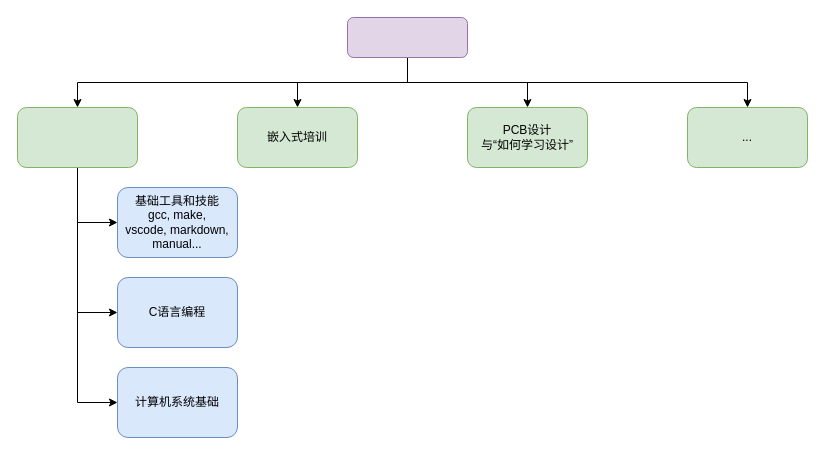
Image size: 825x455. Some labels were removed from this diagram. The shapes that lost their labels are listed below. From the top down, each one's centre as x and y in pixels, then its label:
At point (407, 37): "SEU Project-R".
At point (77, 137): "基础技能培训".
